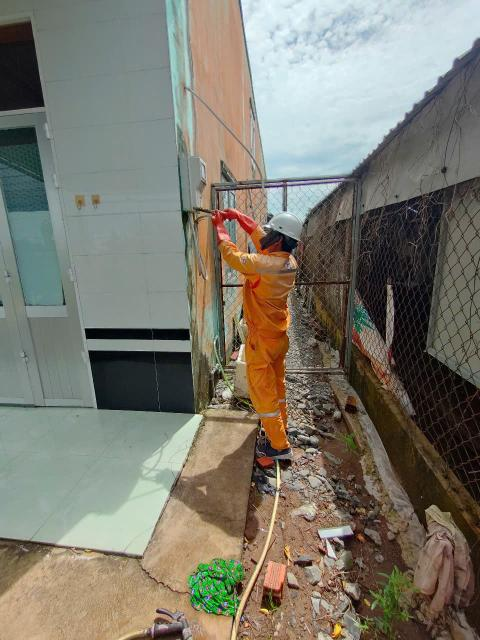gloves: (222, 203, 260, 237), (205, 208, 232, 248)
helmet: (262, 210, 313, 241)
shoes: (243, 432, 293, 463)
